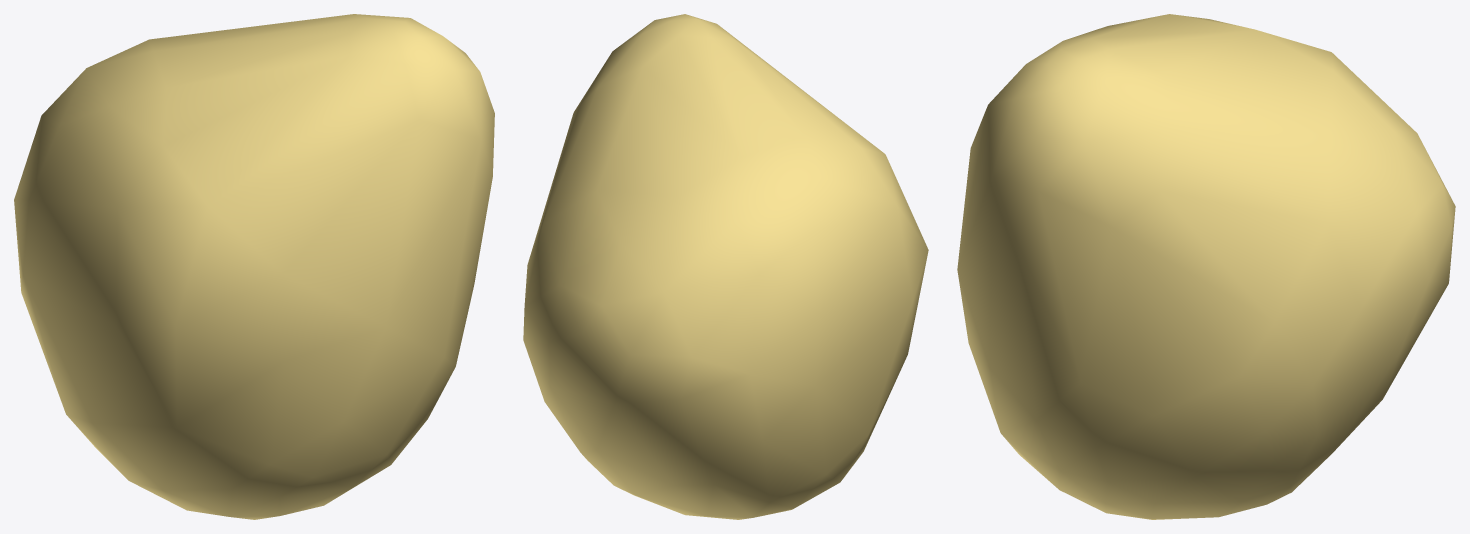
3 views of the same model, side by side, from view 1: azimuth 30°, elevation 25°; view 2: azimuth 150°, elevation 25°; view 3: azimuth 270°, elevation 25° (orthographic). The views are drawn at different scales.
Parts seen in each view (by area): view 1: ZA_0d979b31cbbf87a2; view 2: ZA_0d979b31cbbf87a2; view 3: ZA_0d979b31cbbf87a2.
Part boxes in pixels (bbox=[...]): ZA_0d979b31cbbf87a2: bbox=[14, 14, 494, 519]; ZA_0d979b31cbbf87a2: bbox=[523, 14, 928, 519]; ZA_0d979b31cbbf87a2: bbox=[957, 14, 1455, 519].
Bounding box in the file's own units: 0.00384 × 0.00487 × 0.00443.
